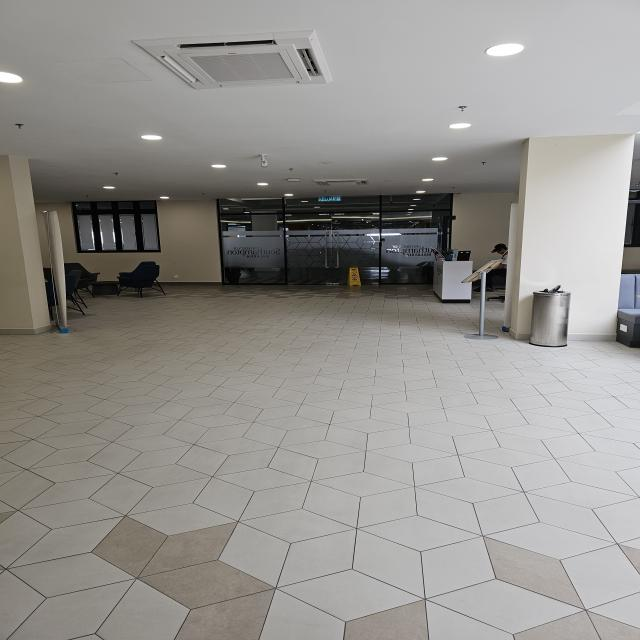footpath: (3, 358, 639, 640), (171, 296, 398, 358)
obstacle: (462, 254, 508, 346), (530, 281, 574, 350)
